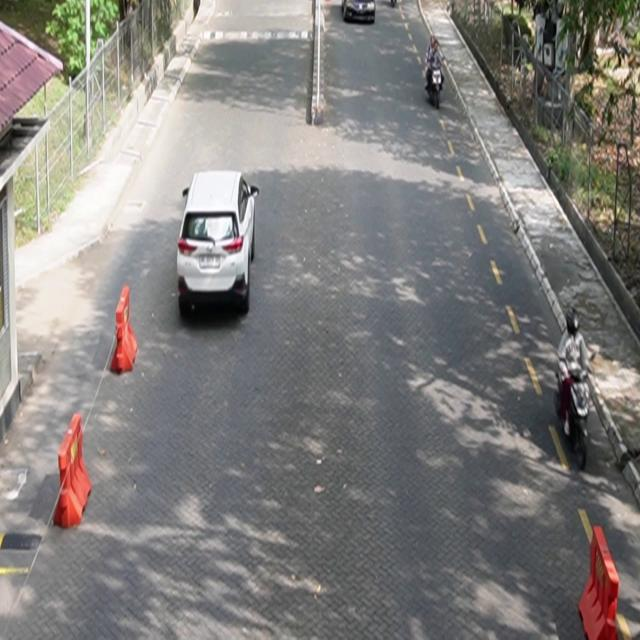car: (178, 170, 261, 317), (343, 1, 377, 24)
